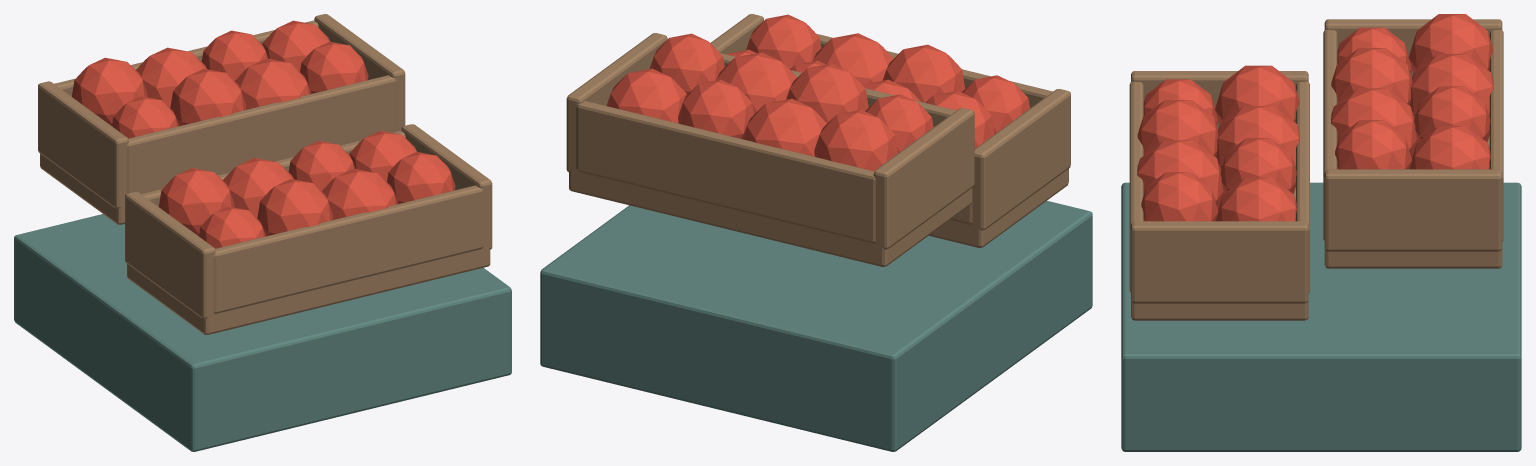
File: boxbox-produce-tomato.glb
The picture shows the model from 3 angles, left to right: view 1: azimuth 30°, elevation 25°; view 2: azimuth 150°, elevation 25°; view 3: azimuth 270°, elevation 25°; orthographic projection. The views are drawn at different scales.
Parts seen in each view (by area): view 1: ShelfEnamel, WoodCrate, Tomato; view 2: ShelfEnamel, WoodCrate, Tomato; view 3: ShelfEnamel, WoodCrate, Tomato.
Part boxes in pixels (bbox=[...]): ShelfEnamel: bbox=[14, 214, 511, 451]; WoodCrate: bbox=[38, 14, 492, 334]; Tomato: bbox=[72, 20, 455, 248]; ShelfEnamel: bbox=[540, 201, 1092, 451]; WoodCrate: bbox=[566, 14, 1070, 266]; Tomato: bbox=[606, 14, 1029, 171]; ShelfEnamel: bbox=[1121, 182, 1521, 451]; WoodCrate: bbox=[1129, 19, 1503, 320]; Tomato: bbox=[1137, 14, 1493, 221].
Size of the model in its own units: 0.65 by 0.5198 by 0.63.
